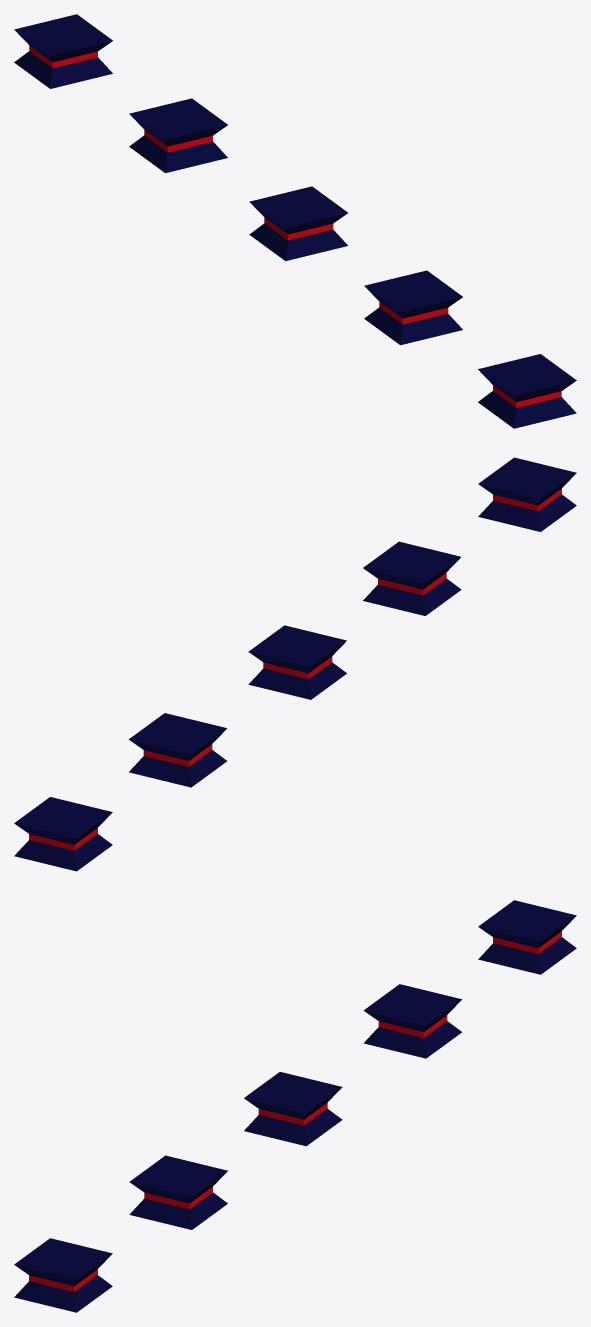
The model's file is STAGE_02.fbx.
3 renders of one model, top to bottom at view 1: azimuth 30°, elevation 25°; view 2: azimuth 150°, elevation 25°; view 3: azimuth 330°, elevation 25°, orthographic.
Parts seen in each view (by area): view 1: Cube.001, Cube.002, Cube, Cube.003, Cube.004; view 2: Cube.002, Cube.003, Cube, Cube.001, Cube.004; view 3: Cube.002, Cube.003, Cube, Cube.004, Cube.001.
Part boxes in pixels (left/top/right/bottom): Cube.001: left=364, top=270, right=462, bottom=345; Cube.002: left=249, top=186, right=347, bottom=261; Cube: left=478, top=354, right=576, bottom=428; Cube.003: left=129, top=98, right=227, bottom=173; Cube.004: left=14, top=14, right=112, bottom=88; Cube.002: left=248, top=625, right=346, bottom=699; Cube.003: left=129, top=713, right=226, bottom=787; Cube: left=478, top=457, right=576, bottom=531; Cube.001: left=363, top=541, right=461, bottom=615; Cube.004: left=14, top=797, right=112, bottom=871; Cube.002: left=244, top=1072, right=342, bottom=1146; Cube.003: left=363, top=984, right=461, bottom=1058; Cube: left=14, top=1238, right=112, bottom=1312; Cube.004: left=478, top=900, right=576, bottom=974; Cube.001: left=129, top=1155, right=227, bottom=1229.
Bounding box in the file's own units: 203 × 2757 × 102.
